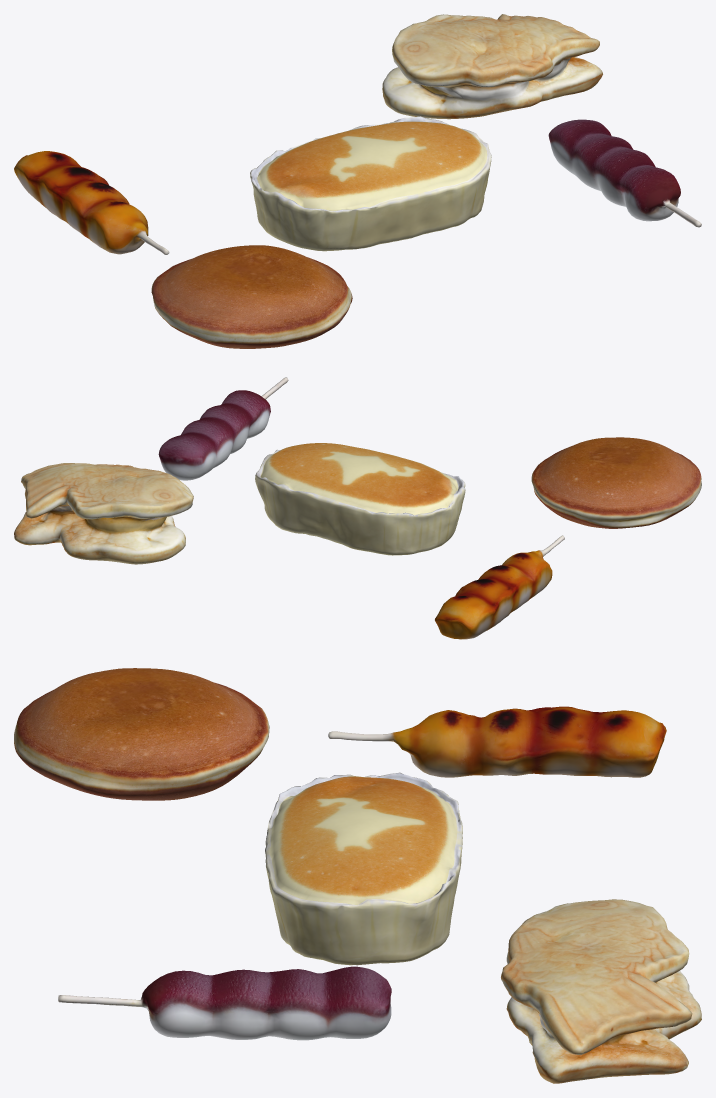
File: oyatsu.obj
The picture shows the model from 3 angles, top to bottom: view 1: azimuth 30°, elevation 25°; view 2: azimuth 150°, elevation 25°; view 3: azimuth 270°, elevation 25°; orthographic projection. The views are drawn at different scales.
Visible parts, largest first — view 1: 02-cheese, 03-taiyaki, 01-dorayaki, 05-dango, 04-mitarashi; view 2: 02-cheese, 03-taiyaki, 01-dorayaki, 04-mitarashi, 05-dango; view 3: 02-cheese, 03-taiyaki, 01-dorayaki, 04-mitarashi, 05-dango.
Boxes of the visible parts, box(x1,y1,x2,y2) form: 02-cheese: box(250, 116, 491, 251); 03-taiyaki: box(382, 14, 602, 119); 01-dorayaki: box(151, 245, 352, 348); 05-dango: box(548, 119, 701, 227); 04-mitarashi: box(14, 151, 169, 254); 02-cheese: box(255, 443, 465, 555); 03-taiyaki: box(14, 463, 193, 564); 01-dorayaki: box(531, 437, 701, 528); 04-mitarashi: box(435, 535, 564, 639); 05-dango: box(158, 377, 288, 480); 02-cheese: box(265, 772, 462, 965); 03-taiyaki: box(501, 899, 701, 1083); 01-dorayaki: box(14, 668, 269, 800); 04-mitarashi: box(328, 706, 666, 777); 05-dango: box(58, 966, 391, 1040).
Size of the model in its own units: 33.27 by 3.84 by 25.87.
1 material, 1 textured.
